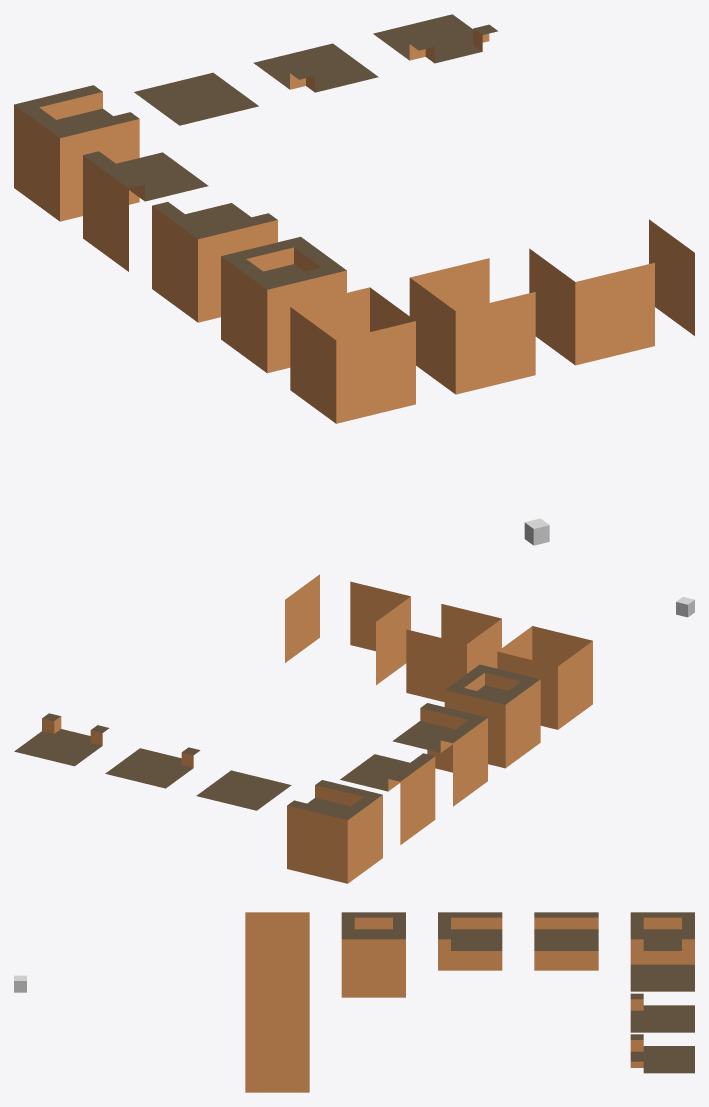
File: castle.fbx
3 views of the same model, one above another, from view 1: azimuth 30°, elevation 25°; view 2: azimuth 150°, elevation 25°; view 3: azimuth 270°, elevation 25° (orthographic). The views are drawn at different scales.
Visible parts, largest first — view 1: 0s_0s_0s_0s_1i_1i_1, 1s_0s_0s_0s_1i_1i_4, 3s_0s_0s_0s_0i_1i_4, 0s_0s_0s_0s_0i_1i_1, 1s_0s_0s_1s_1i_1i_4, 2f_0s_0s_2_0i_1i_4, 2s_0s_2f_2_0i_1i_4, 2s_2s_2s_2s_0i_1i_4, 1s_0s_1s_1s_1i_1i_4, 2f_2_3s_2s_0i_1i_4, 2s_2_2f_2s_0i_1i_4; view 2: 3s_0s_0s_0s_0i_1i_4, 0s_0s_0s_0s_0i_1i_1, 0s_0s_0s_0s_1i_1i_1, 1s_0s_0s_0s_1i_1i_4, 2f_0s_0s_2_0i_1i_4, 1s_0s_0s_1s_1i_1i_4, 2s_0s_2f_2_0i_1i_4, 2f_2_3s_2s_0i_1i_4, 2s_2_2f_2s_0i_1i_4, 1s_0s_1s_1s_1i_1i_4, 2s_2s_2s_2s_0i_1i_4; view 3: 0s_0s_0s_0s_0i_1i_1, 2f_0s_0s_2_0i_1i_4, 2s_0s_2f_2_0i_1i_4, 1s_0s_1s_1s_1i_1i_4, 3s_0s_0s_0s_0i_1i_4, 1s_0s_0s_1s_1i_1i_4, 0s_0s_0s_0s_1i_1i_1, 1s_0s_0s_0s_1i_1i_4, 2s_2_2f_2s_0i_1i_4, 2f_2_3s_2s_0i_1i_4, 2s_2s_2s_2s_0i_1i_4.
Part boxes in pixels (x1,y1,x2,y2): 0s_0s_0s_0s_1i_1i_1: (290,287,415,423); 1s_0s_0s_0s_1i_1i_4: (409,258,535,394); 3s_0s_0s_0s_0i_1i_4: (14,85,139,221); 0s_0s_0s_0s_0i_1i_1: (221,237,346,373); 1s_0s_0s_1s_1i_1i_4: (529,248,654,365); 2f_0s_0s_2_0i_1i_4: (152,202,277,322); 2s_0s_2f_2_0i_1i_4: (83,151,208,271); 2s_2s_2s_2s_0i_1i_4: (134,72,258,125); 1s_0s_1s_1s_1i_1i_4: (649,219,694,335); 2f_2_3s_2s_0i_1i_4: (373,14,497,63); 2s_2_2f_2s_0i_1i_4: (253,43,378,92); 3s_0s_0s_0s_0i_1i_4: (287,780,382,883); 0s_0s_0s_0s_0i_1i_1: (444,664,540,768); 0s_0s_0s_0s_1i_1i_1: (497,626,592,729); 1s_0s_0s_0s_1i_1i_4: (406,604,501,701); 2f_0s_0s_2_0i_1i_4: (392,703,487,806); 1s_0s_0s_1s_1i_1i_4: (350,581,410,684); 2s_0s_2f_2_0i_1i_4: (340,753,435,844); 2f_2_3s_2s_0i_1i_4: (14,713,109,766); 2s_2_2f_2s_0i_1i_4: (105,747,200,788); 1s_0s_1s_1s_1i_1i_4: (285,574,319,662); 2s_2s_2s_2s_0i_1i_4: (196,770,291,810); 0s_0s_0s_0s_0i_1i_1: (341,912,405,997); 2f_0s_0s_2_0i_1i_4: (438,912,502,970); 2s_0s_2f_2_0i_1i_4: (534,912,598,970); 1s_0s_1s_1s_1i_1i_4: (245,1034,309,1092); 3s_0s_0s_0s_0i_1i_4: (630,912,694,964); 1s_0s_0s_1s_1i_1i_4: (245,993,309,1034); 0s_0s_0s_0s_1i_1i_1: (245,912,309,952); 1s_0s_0s_0s_1i_1i_4: (245,953,309,993); 2s_2_2f_2s_0i_1i_4: (630,993,694,1032); 2f_2_3s_2s_0i_1i_4: (630,1034,694,1073); 2s_2s_2s_2s_0i_1i_4: (630,964,694,991).
Size of the model in its own units: 1100 by 2120 by 220.
